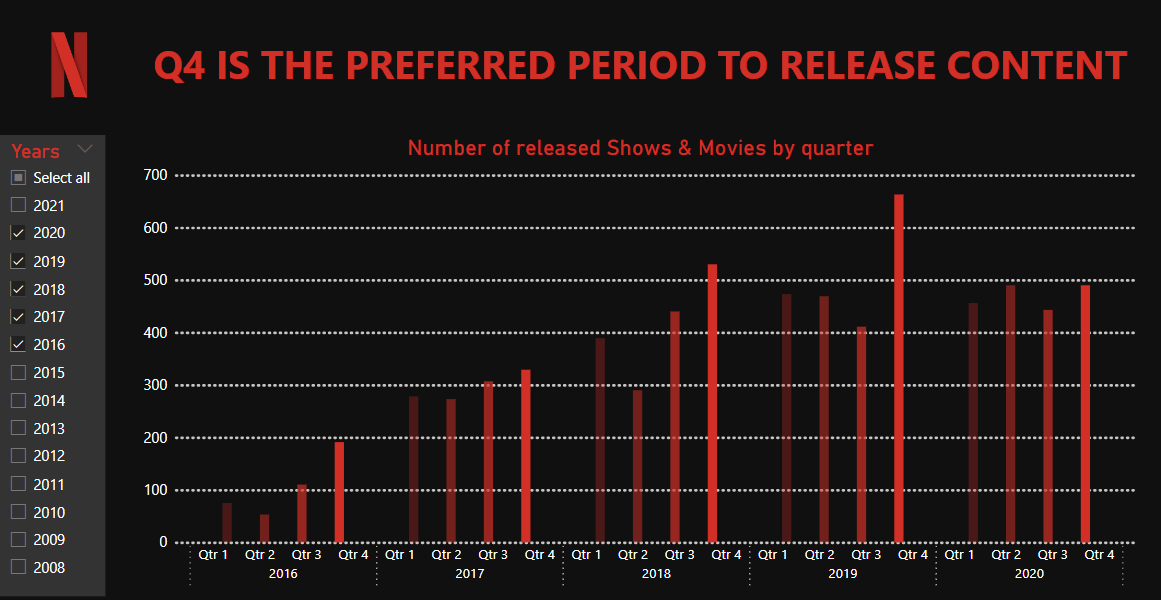

This screenshot's page, from the dashboard's own definition file:
{"tool":"powerbi","page":{"name":"Seasonality in the catalogue release","canvas":[1280,720],"ordinal":6},"visuals":[{"type":"image","box":[0,0,153.7,153.7],"z":0},{"type":"textbox","box":[153.7,41.2,1100.5,72.7],"z":1000},{"type":"slicer","fields":{"Values":["netflix_titles.date_added.Variation.Date Hierarchy.Year"]},"box":[0,153.7,116.6,506.4],"z":2000},{"type":"clusteredColumnChart","title":"Number of released Shows & Movies by quarter","fields":{"Category":["netflix_titles.date_added.Variation.Date Hierarchy.Year","netflix_titles.date_added.Variation.Date Hierarchy.Quarter"],"Y":["Count(netflix_titles.show_id)"],"Series":["netflix_titles.date_added.Variation.Date Hierarchy.Quarter"]},"box":[153.7,153.7,1100.5,506.4],"z":3000}]}

Visuals, with their boxes on the page's 1280x720 design canvas (x1, y1, x2, y2). These are canvas units, not pixel positions in the 1161x600 screenshot, which may show the page scaled, cropped or inside an application window:
image: region(0, 0, 154, 154)
textbox: region(154, 41, 1254, 114)
slicer - netflix_titles.date_added.Variation.Date Hierarchy.Year: region(0, 154, 117, 660)
"Number of released Shows & Movies by quarter" clusteredColumnChart: region(154, 154, 1254, 660)
